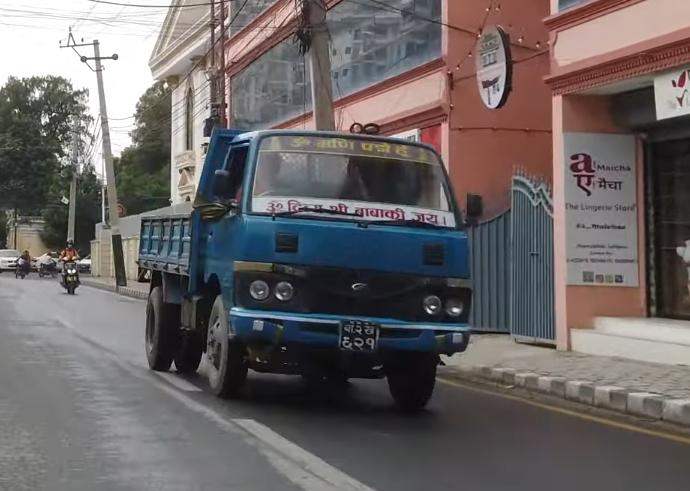car: (0, 240, 36, 278)
mini_truck: (129, 117, 491, 417)
scooter: (46, 244, 91, 302)
